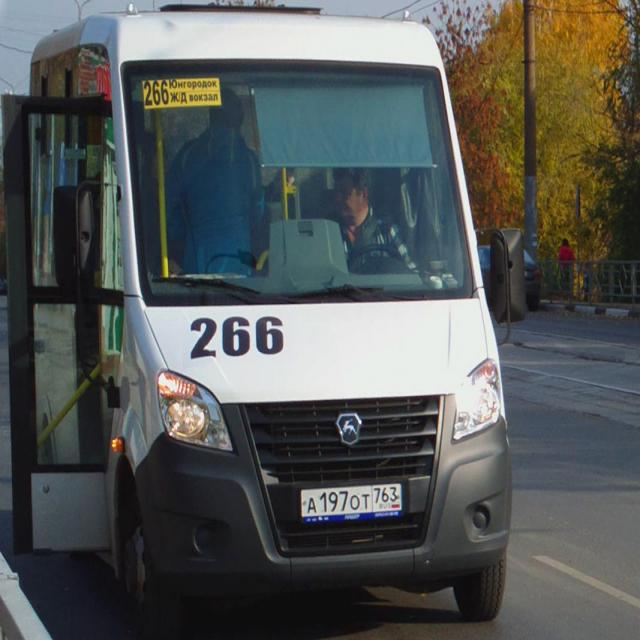number-of-bus: (185, 313, 288, 366), (146, 81, 171, 109)
